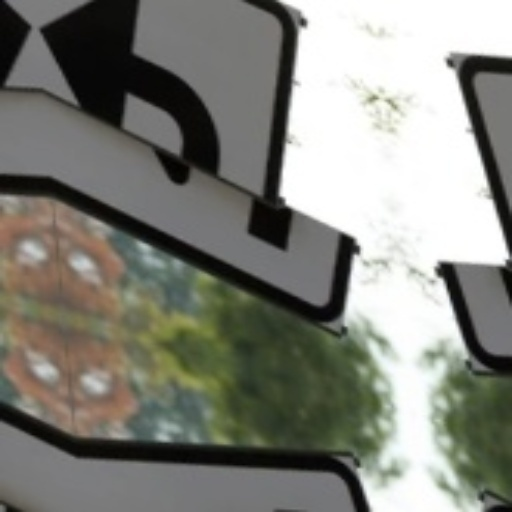Turn left: (40, 12, 306, 267)
